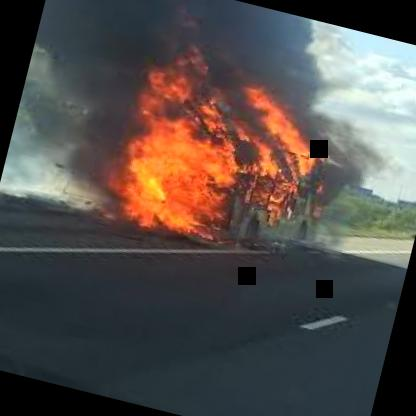fire: (63, 0, 407, 290)
